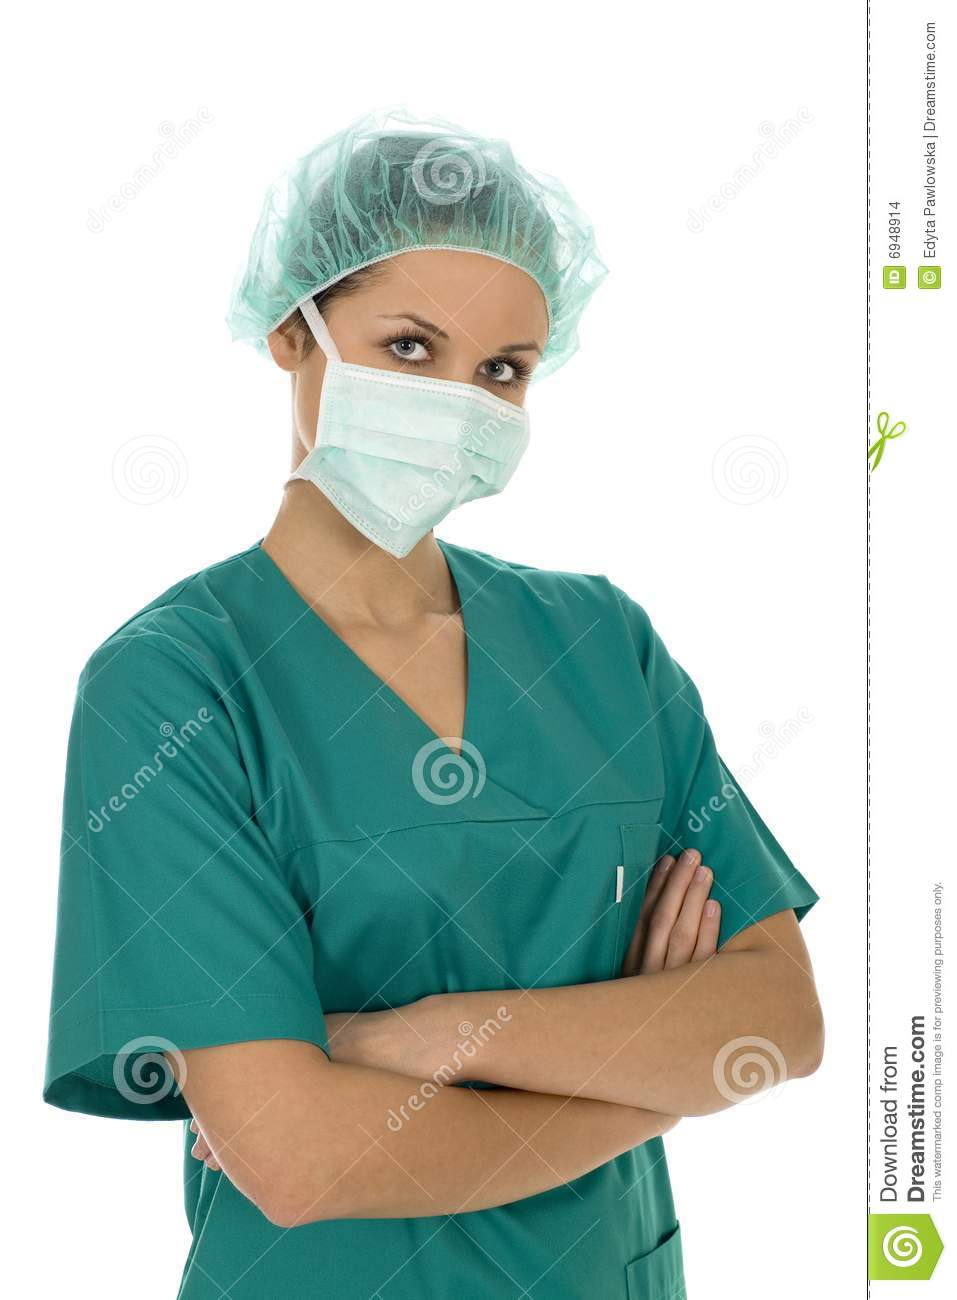mask: (314, 355, 524, 573)
